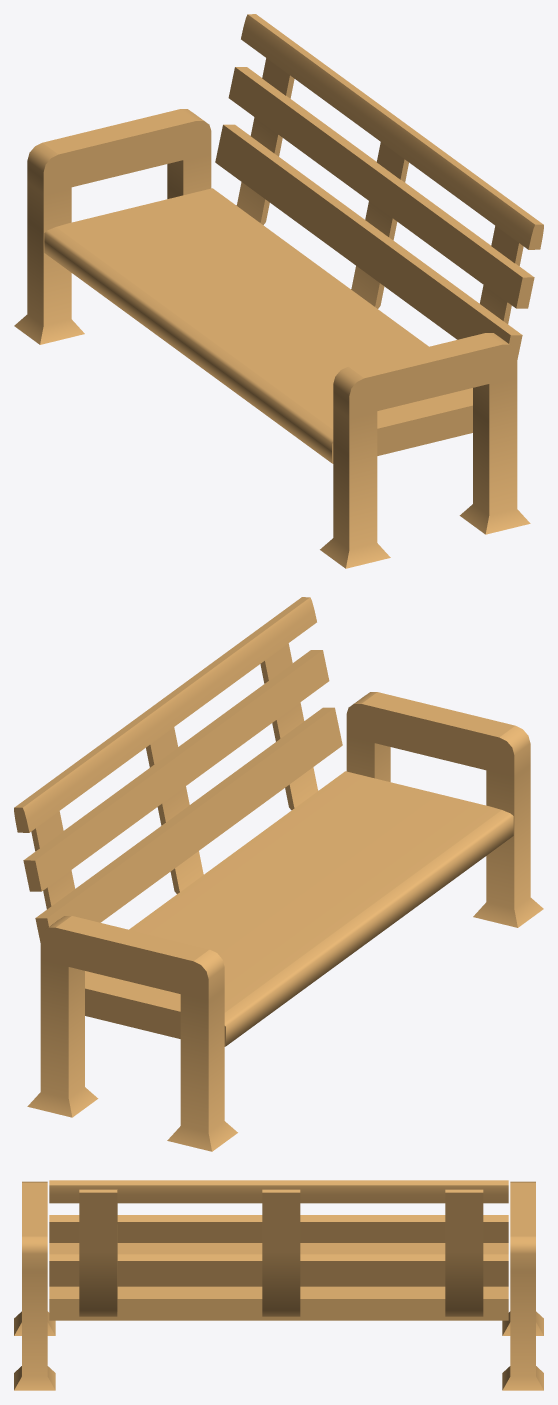
File: 棒球場 - 椅子.fbx
The picture shows the model from 3 angles, top to bottom: view 1: azimuth 30°, elevation 25°; view 2: azimuth 150°, elevation 25°; view 3: azimuth 270°, elevation 25°; orthographic projection. The views are drawn at different scales.
Parts seen in each view (by area): view 1: 椅子; view 2: 椅子; view 3: 椅子.
Boxes of the visible parts, x1,y1,x2,y2 form: 椅子: [14, 14, 543, 568]; 椅子: [14, 597, 543, 1151]; 椅子: [14, 1180, 543, 1390].
Size of the model in its own units: 3027 by 3555 by 7738.
